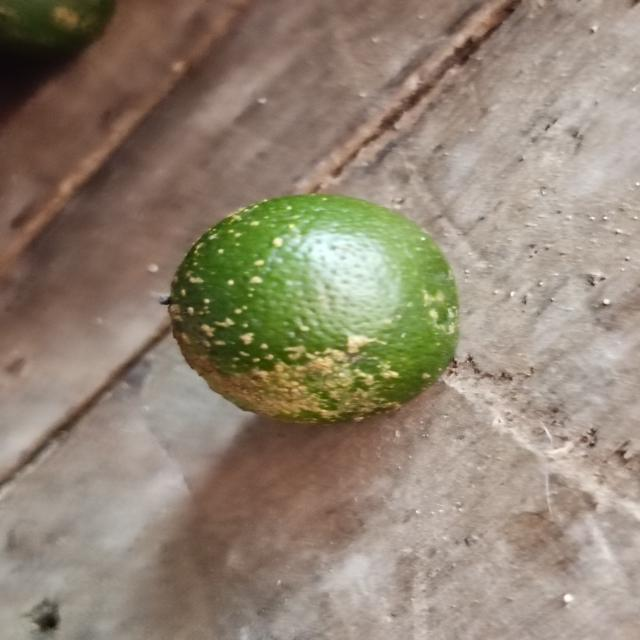scab: (162, 194, 466, 430)
